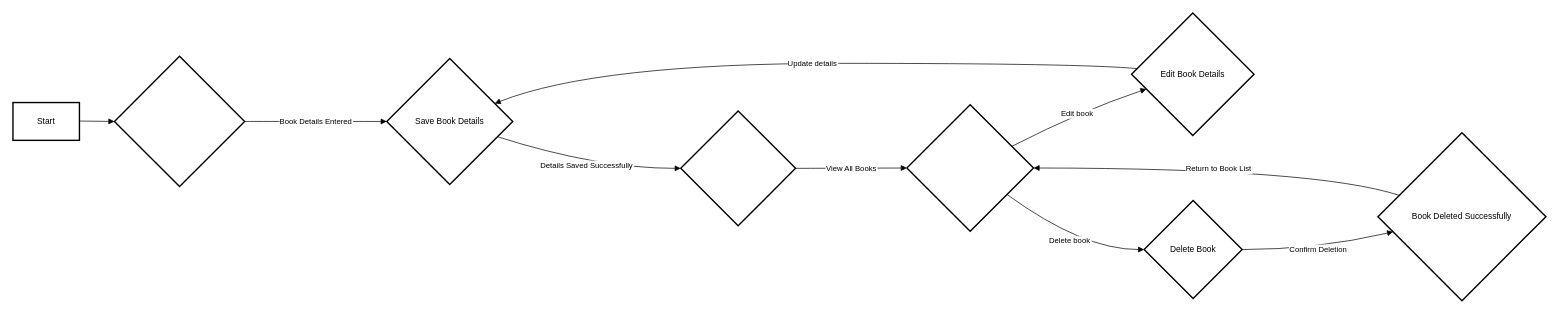
Some shapes in this 1558 by 313 pixel diagram are drawn without their labels. The box of each missing label's shape, as (x1, y1, x2, y2) in pixels:
Display Books List: (906, 104, 1034, 232)
Enter Book Details: (113, 55, 245, 187)
View Books List: (680, 110, 796, 226)
